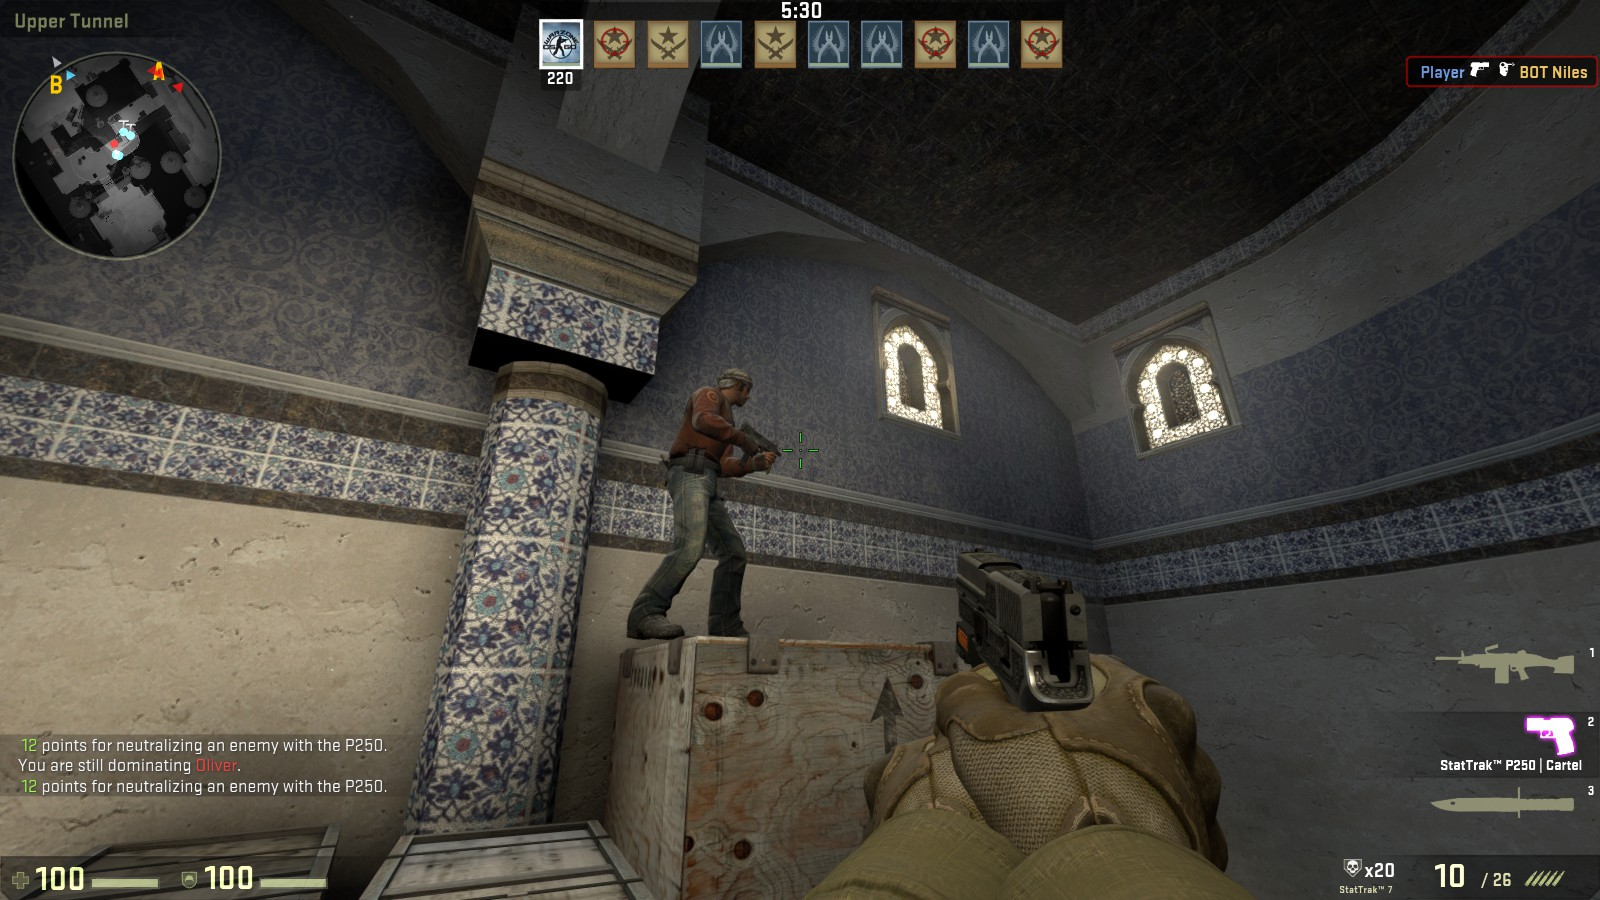t: (659, 367, 758, 646)
th: (712, 366, 757, 405)
